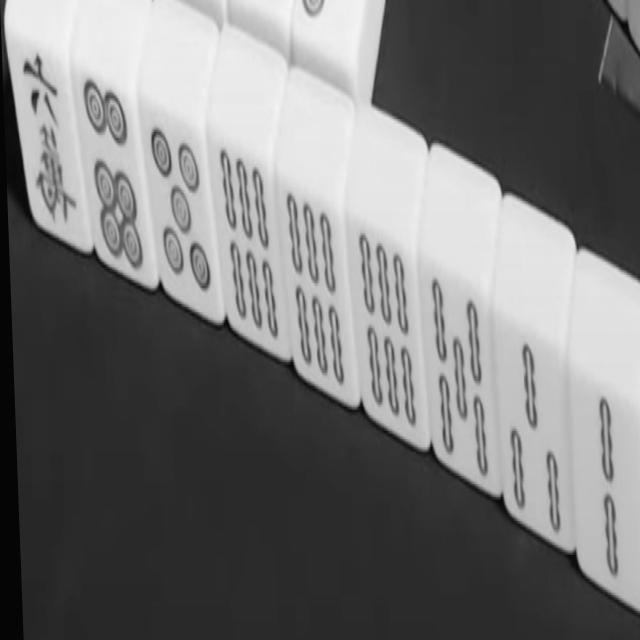m6: (18, 31, 76, 228)
s2: (570, 388, 640, 592)
s3: (499, 330, 572, 540)
s5: (427, 260, 499, 488)
s6: (284, 190, 354, 388), (358, 232, 423, 428), (221, 147, 281, 348)
t5: (144, 112, 214, 306)
t6: (82, 75, 143, 278)
